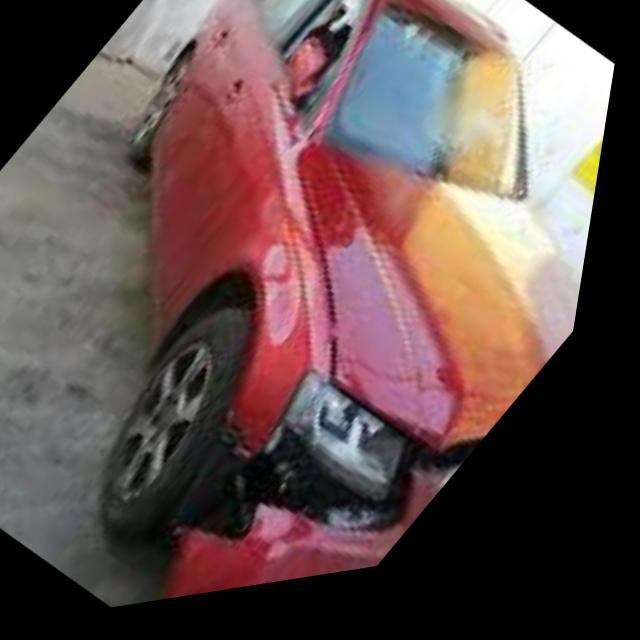dislocated part: (181, 383, 511, 608)
